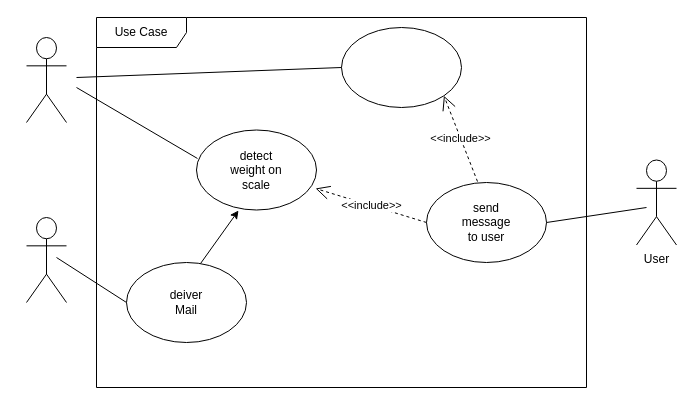
Image size: 694x405. Some labels were removed from this diagram. Each missing label, with the centre of its shape:
"detect low battery" belongs at (401,67).
"Mailman" belongs at (46,259).
"Mailnotifier" belongs at (46,79).
